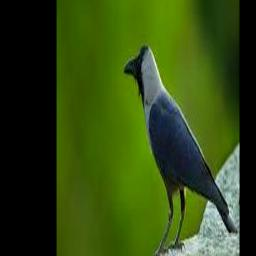Crow: (123, 46, 237, 253)
